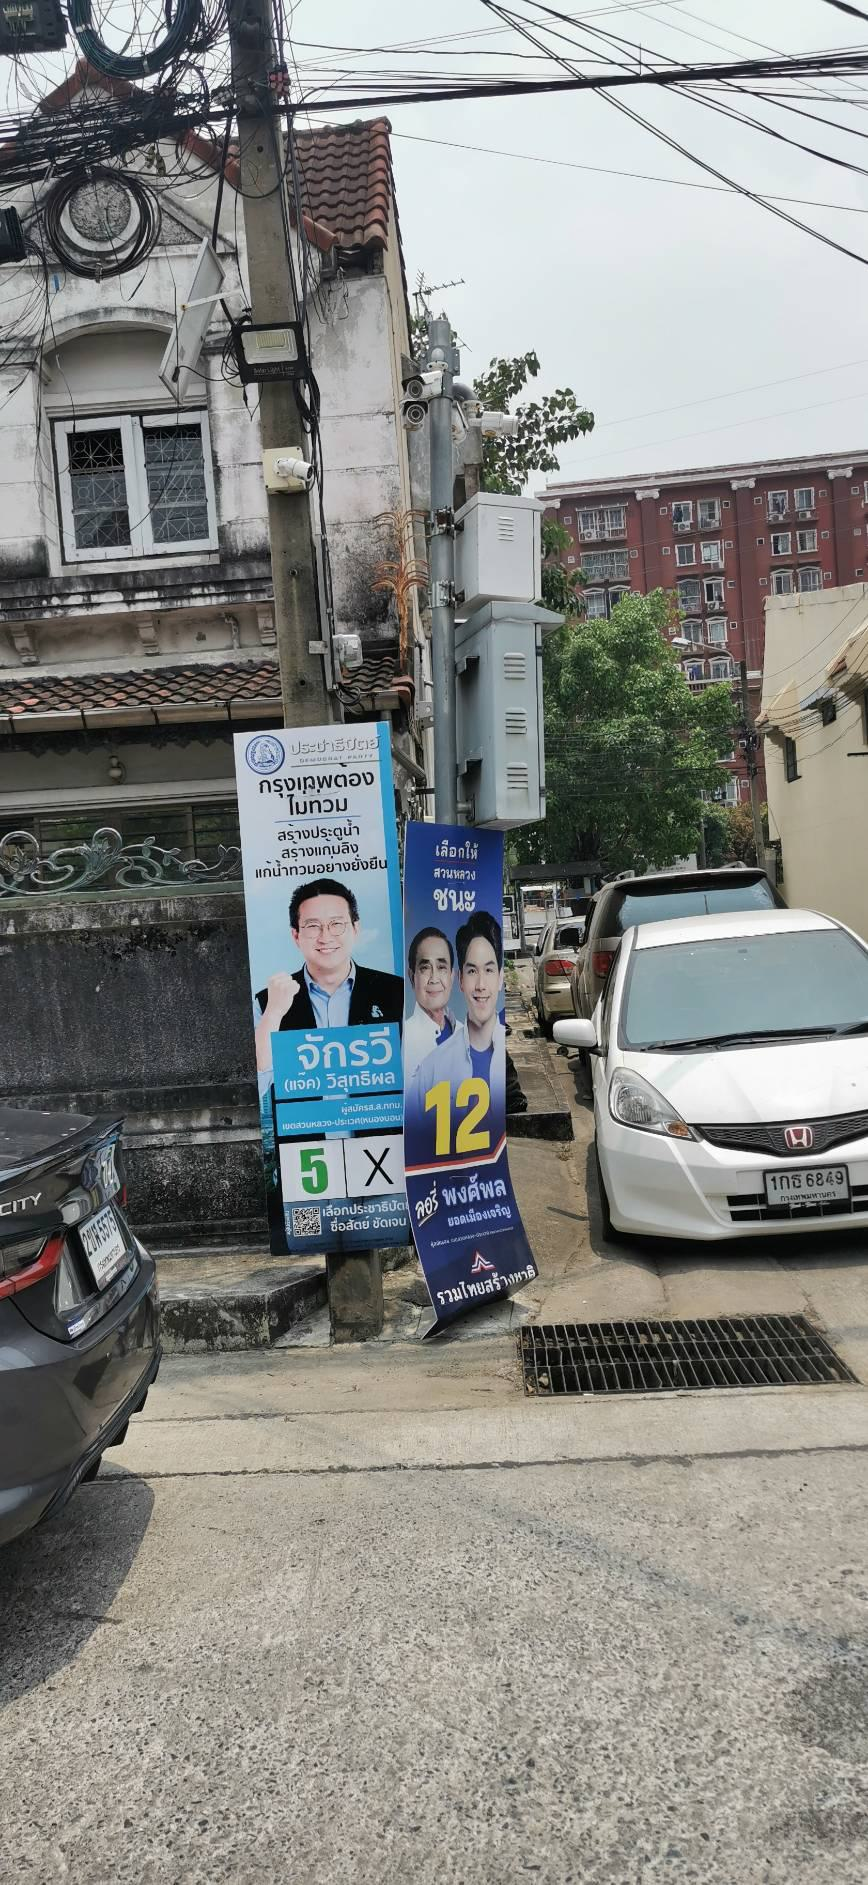Banner: (248, 720, 410, 1266), (422, 808, 540, 1336)
